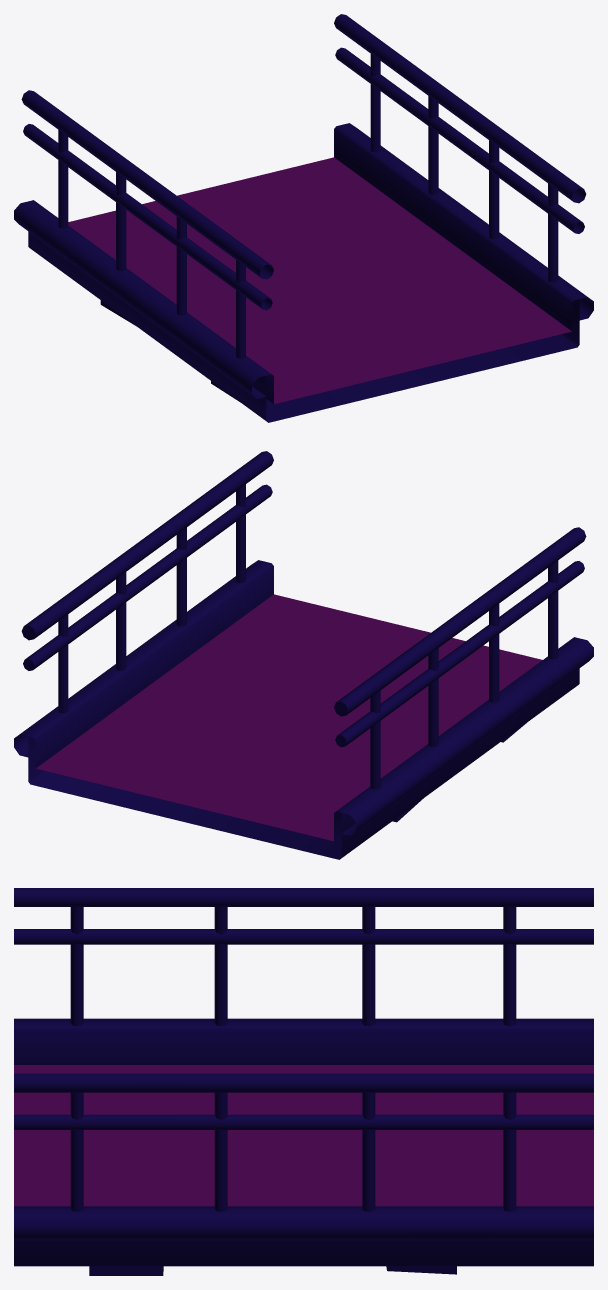
Rendered from Bridge_Air_01.FBX.
3 views of the same model, one above another, from view 1: azimuth 30°, elevation 25°; view 2: azimuth 150°, elevation 25°; view 3: azimuth 270°, elevation 25° (orthographic). The views are drawn at different scales.
Parts seen in each view (by area): view 1: Bridge_Air_01; view 2: Bridge_Air_01; view 3: Bridge_Air_01.
Part boxes in pixels (x1,y1,x2,y2): Bridge_Air_01: (14,14,593,422); Bridge_Air_01: (14,451,593,859); Bridge_Air_01: (14,888,593,1275).
Size of the model in its own units: 332 by 162 by 400.
